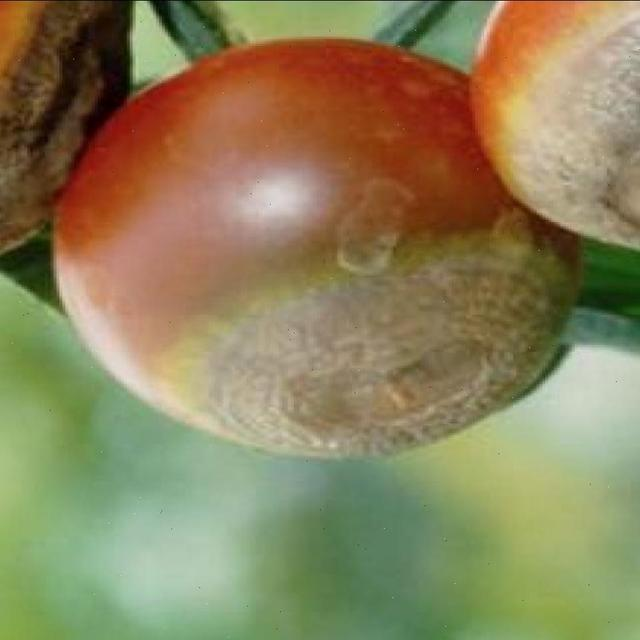Blossom End Rot Fruit: (44, 83, 381, 229)
